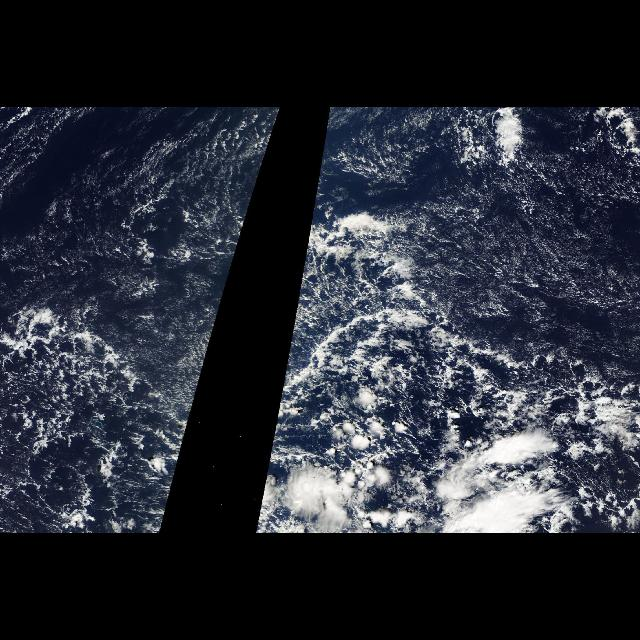Gravel: (254, 178, 628, 530), (2, 326, 212, 530)
Sugar: (288, 112, 638, 358), (2, 110, 280, 358)
